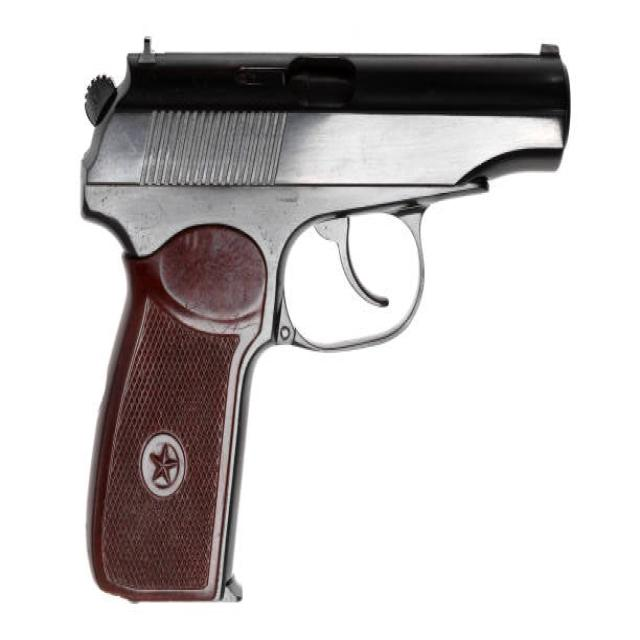pistol: (70, 31, 581, 607)
